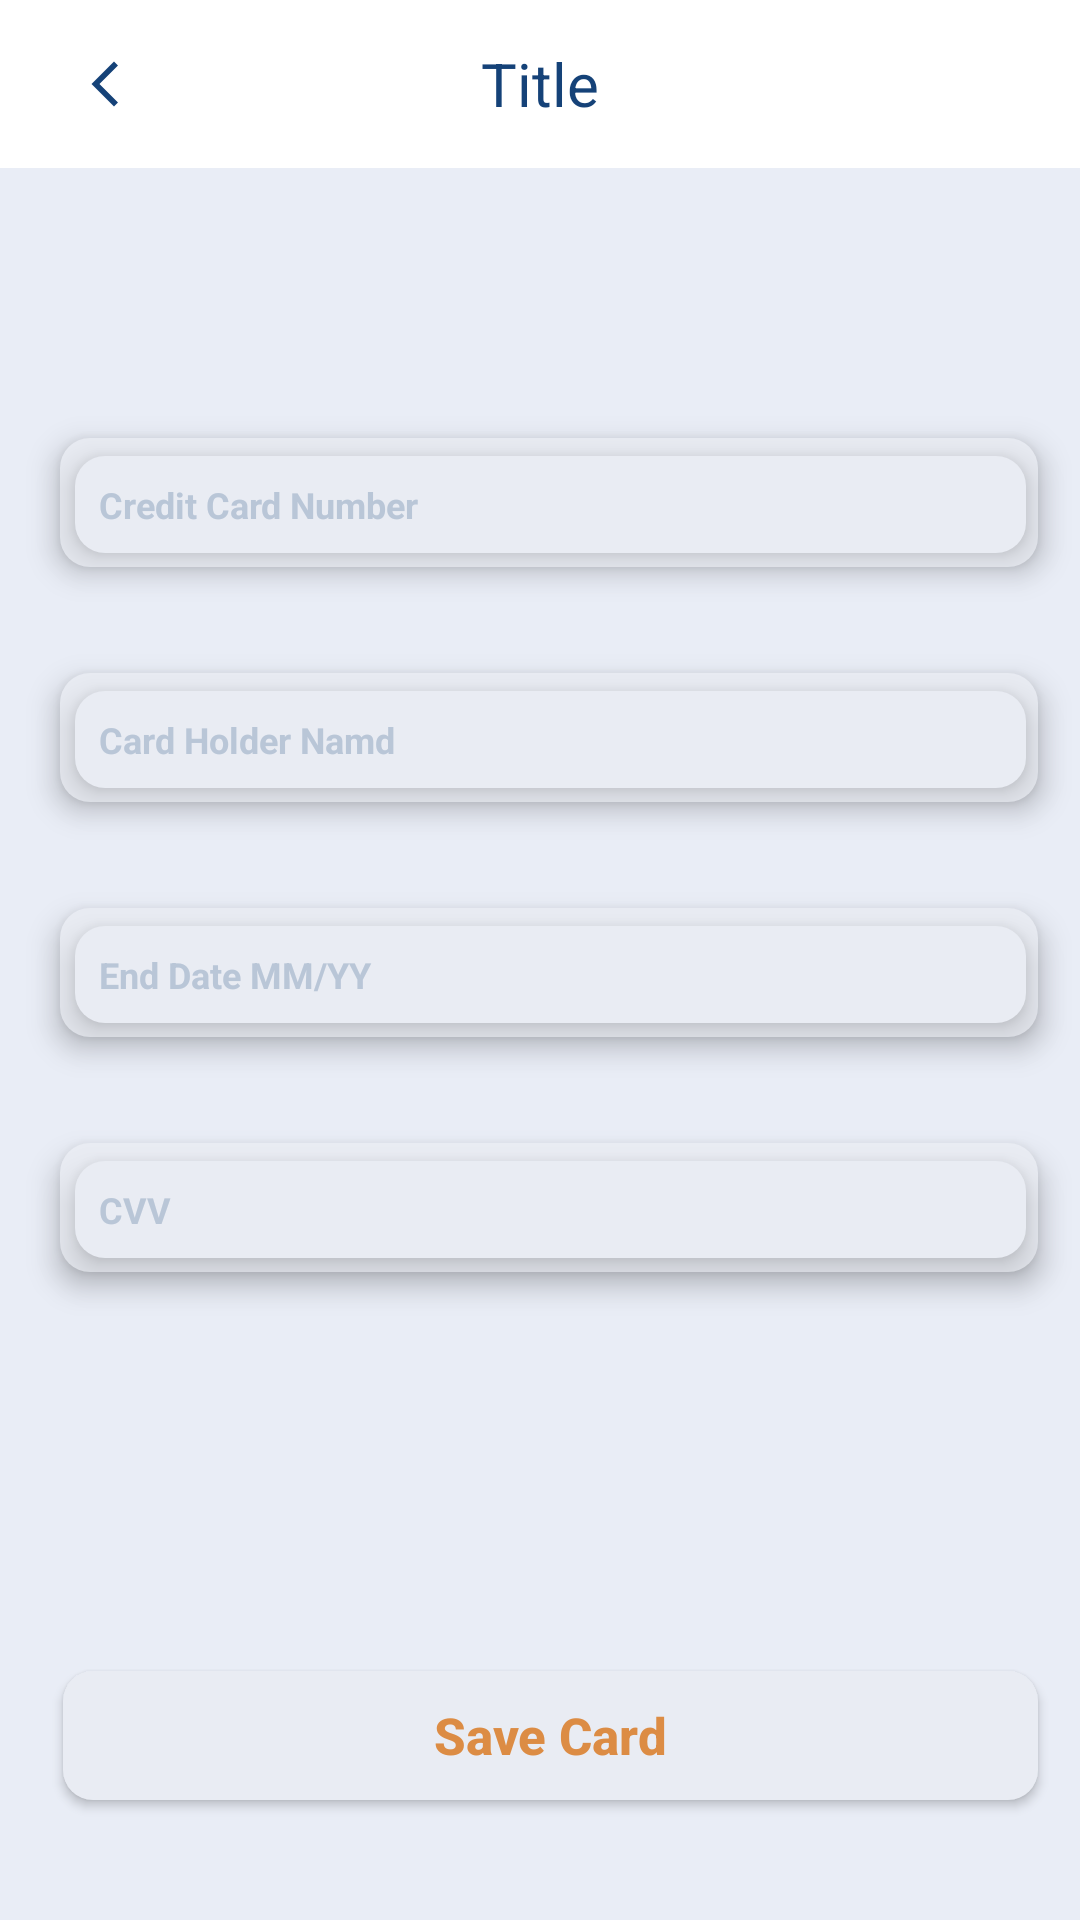

Point at icon controls on the screen. Image size 1080×1920, points as point (x, y).
Back Button: point (104, 84)
